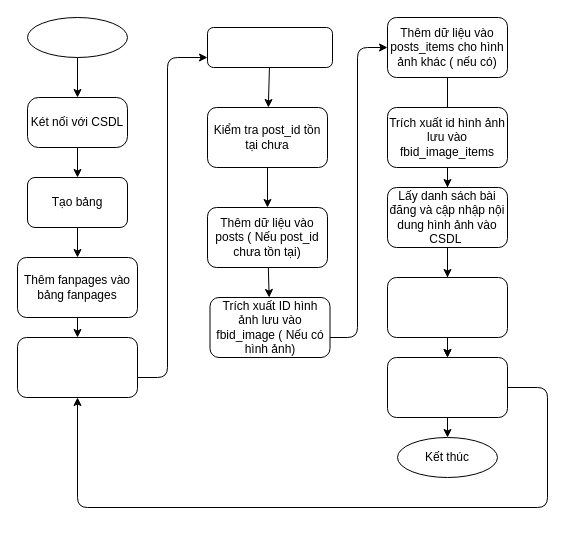
Some shapes in this 573 by 533 pixel diagram are drawn without their labels. Each missing label, with the centre of its shape:
Bắt đầu: [77,37]
Cập nhập nội dung hình ảnh vào CSDL: [447,387]
Lấy danh sách fanpages: [77,367]
Lấy dữ liệu bài đăng từ facebook: [269,47]
Truy cập vào URL bài đăng và lấy nội dung hình ảnh từ trang bài đăng: [447,307]
